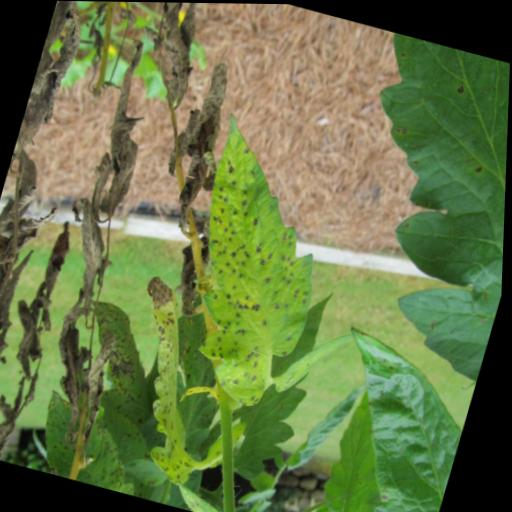Septoria: (304, 30, 511, 383), (162, 113, 361, 404), (293, 323, 486, 512), (97, 271, 249, 492), (57, 296, 199, 458), (30, 389, 151, 493)
